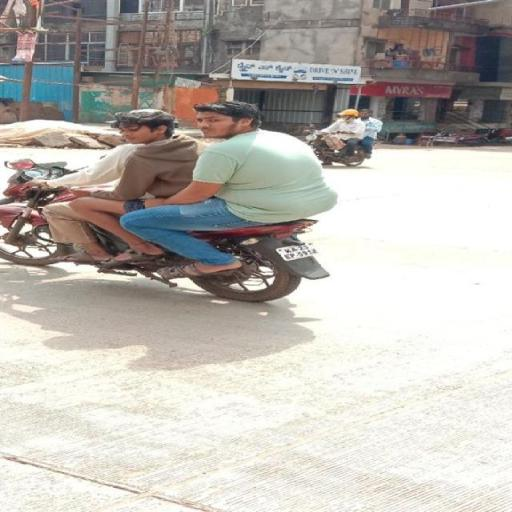tripple riding: (35, 99, 346, 219)
